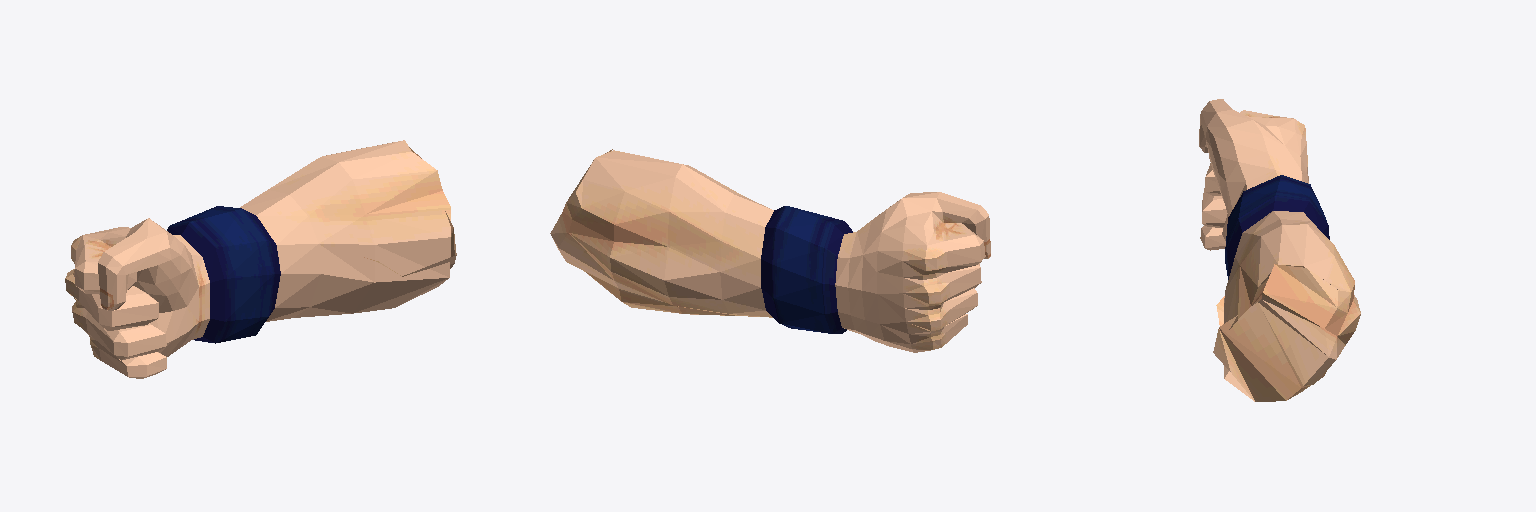
The picture shows the model from 3 angles: view 1: azimuth 30°, elevation 25°; view 2: azimuth 150°, elevation 25°; view 3: azimuth 270°, elevation 25°; orthographic projection.
Parts seen in each view (by area): view 1: Mesh.404_DrawCall_231; view 2: Mesh.404_DrawCall_231; view 3: Mesh.404_DrawCall_231.
Boxes of the visible parts, x1,y1,x2,y2 form: Mesh.404_DrawCall_231: [65, 140, 456, 378]; Mesh.404_DrawCall_231: [550, 149, 990, 352]; Mesh.404_DrawCall_231: [1199, 99, 1360, 401].
Bounding box in the file's own units: 9.81 × 3.67 × 3.5.
Materials: 3 (3 with a texture image).